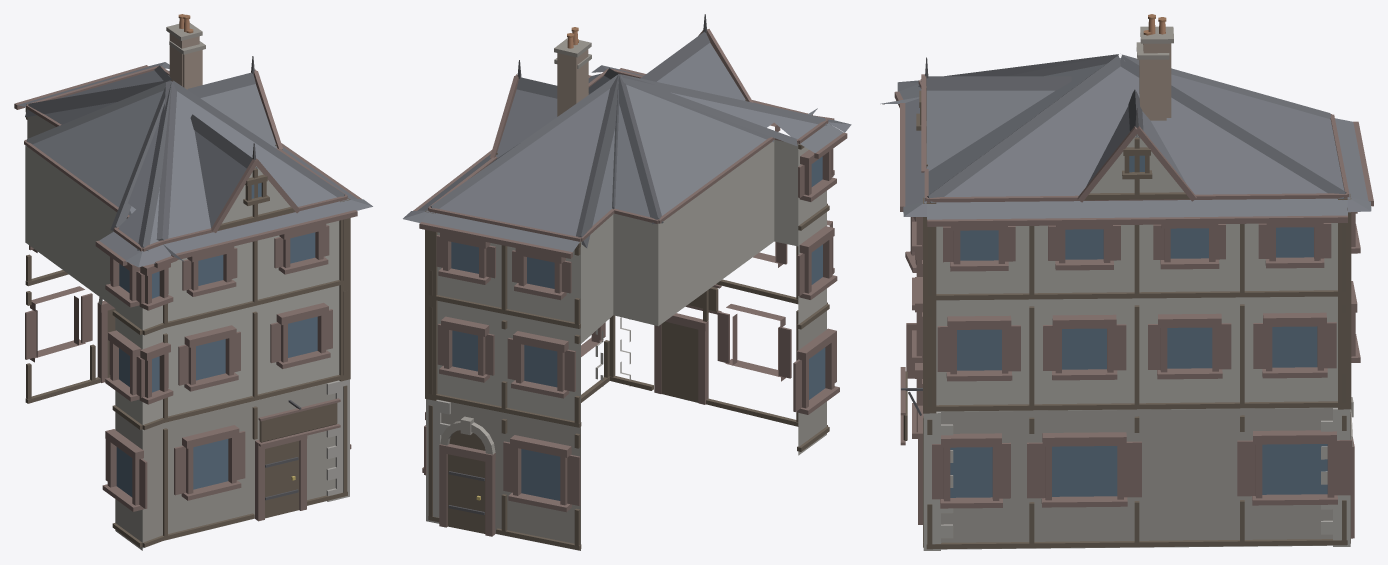
3 renders of one model, left to right at view 1: azimuth 30°, elevation 25°; view 2: azimuth 150°, elevation 25°; view 3: azimuth 270°, elevation 25°, orthographic. The views are drawn at different scales.
Parts seen in each view (by area): view 1: B002_visible; view 2: B002_visible; view 3: B002_visible.
Boxes of the visible parts, <box> form: B002_visible: <box>14,14,372,550</box>; B002_visible: <box>403,14,851,550</box>; B002_visible: <box>880,14,1373,550</box>.
Bounding box in the file's own units: 8.28 × 13.78 × 12.32.
